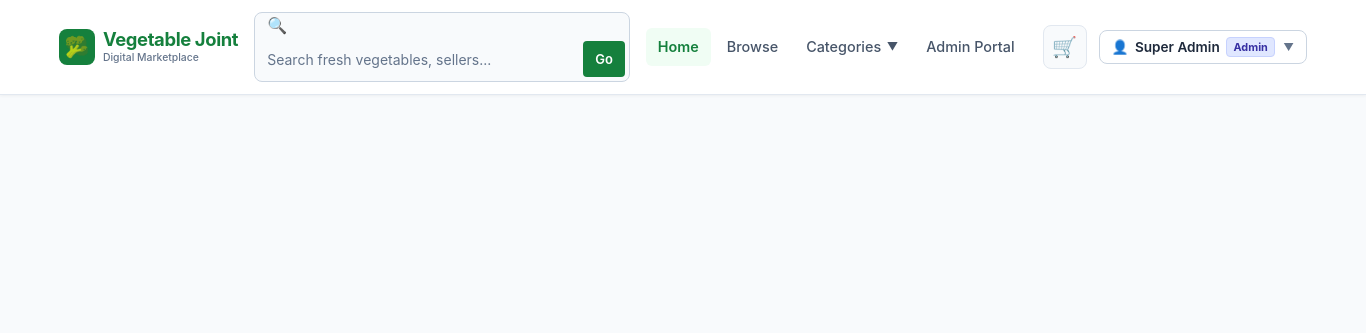
Navbar Component (FE-022, UI-01, UI-07, CART-07) › Role-Dependent Navigation & Menus (UI-07) › displays Admin-specific options when logged in as Admin
This screenshot has width=1366, height=333.
Expected: the link "Admin Portal" is shown, [926,38,1015,55]
Expected: the text "admin" is shown, [1226,37,1275,57]
Click the button "👤 Super Admin admin ▼" at (1203, 47), box [1099,30,1307,64]
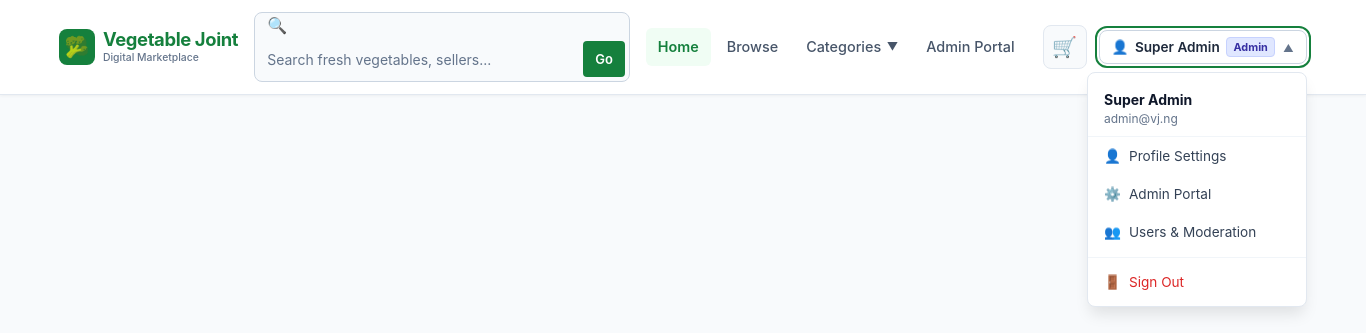
Now the text "Users & Moderation" is shown, box [1129,222,1256,242]
